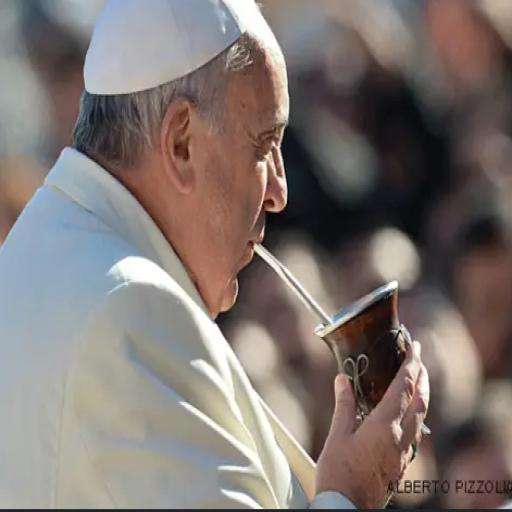mate: (257, 246, 410, 418)
